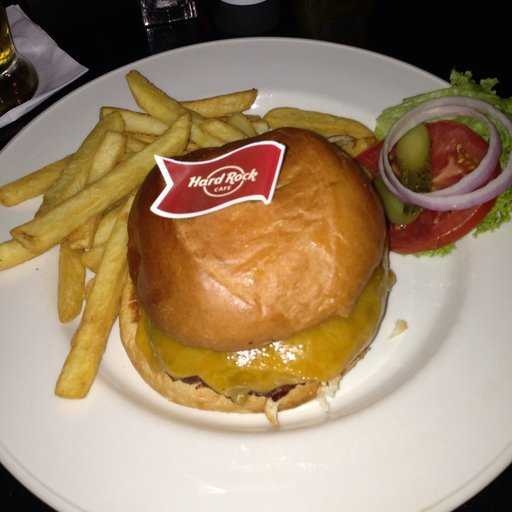hamburger: (82, 122, 392, 418)
